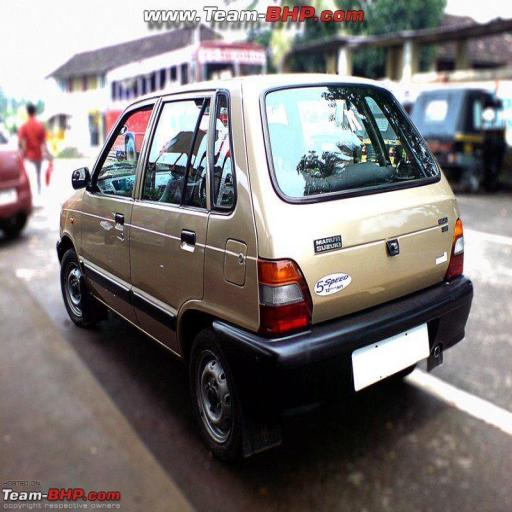License: (345, 323, 433, 394)
